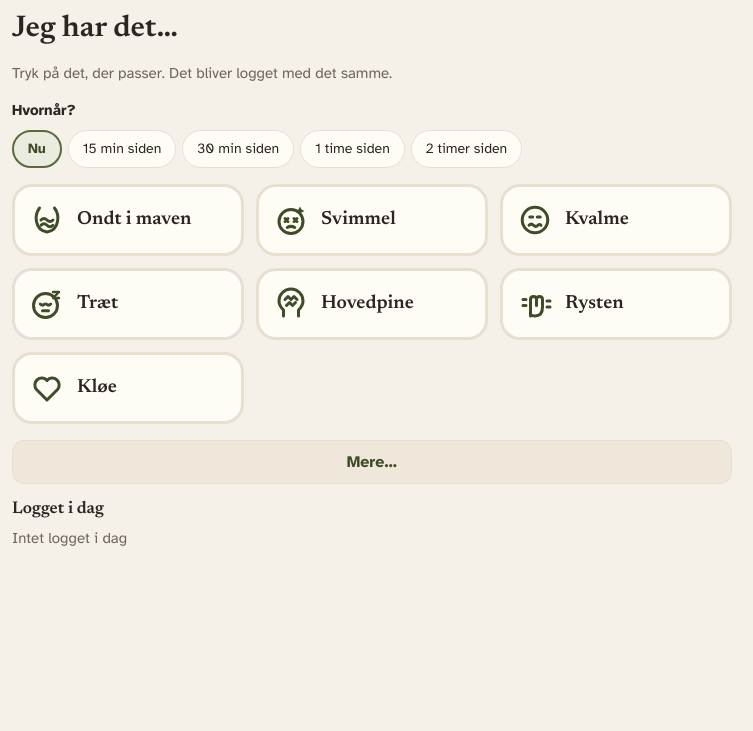
Test: Jeg har det… (the picker, plan §5) › Mere… opens the sheet with severity chips, a note and a time, and saves them with the kind
Click the button "Mere…".
click(372, 462)  # box [12,440,732,484]
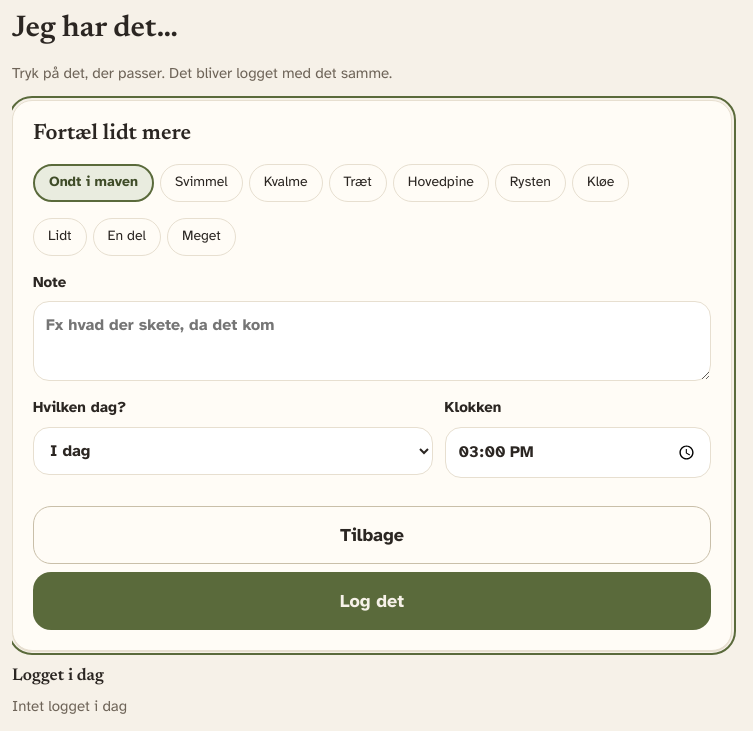
Expected: the element with test id "feel-grid" is gone
Click the radio button labelled "Kvalme".
click(286, 183)  # box [249,164,322,202]
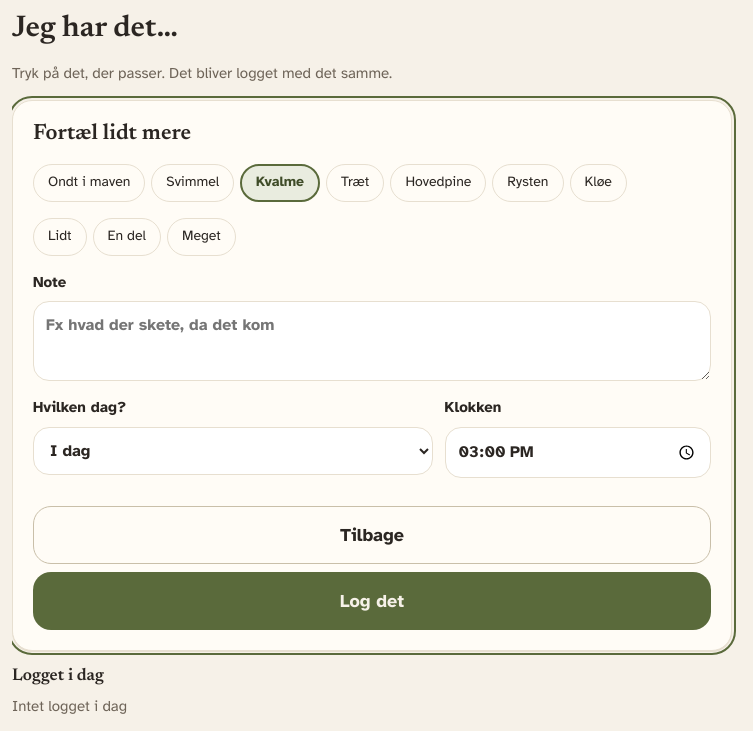
Click the radio button labelled "En del".
click(127, 237)  # box [93,218,161,256]
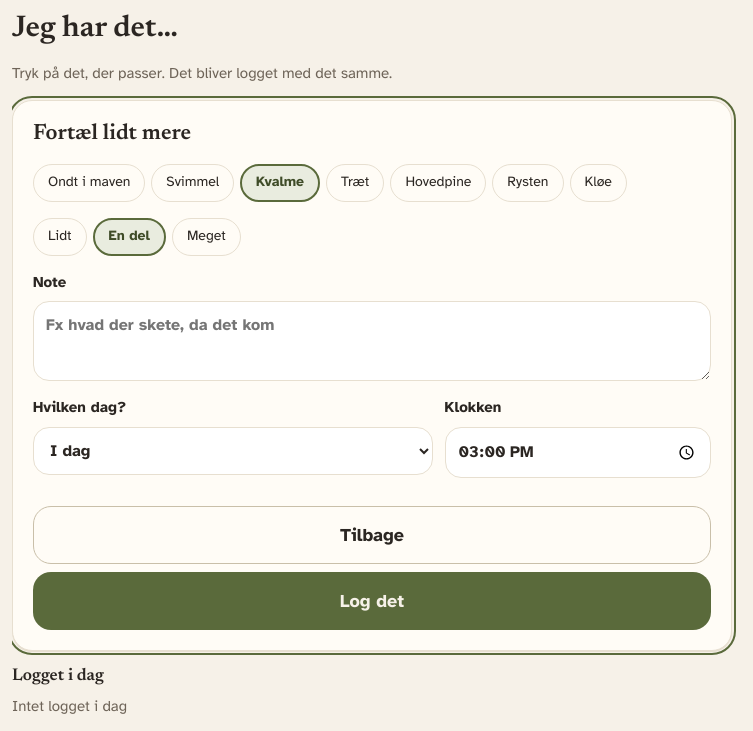
Type "Efter frokost" into the text box labelled "Note".
click(372, 341); type("Efter frokost")  # box [33,301,711,381]
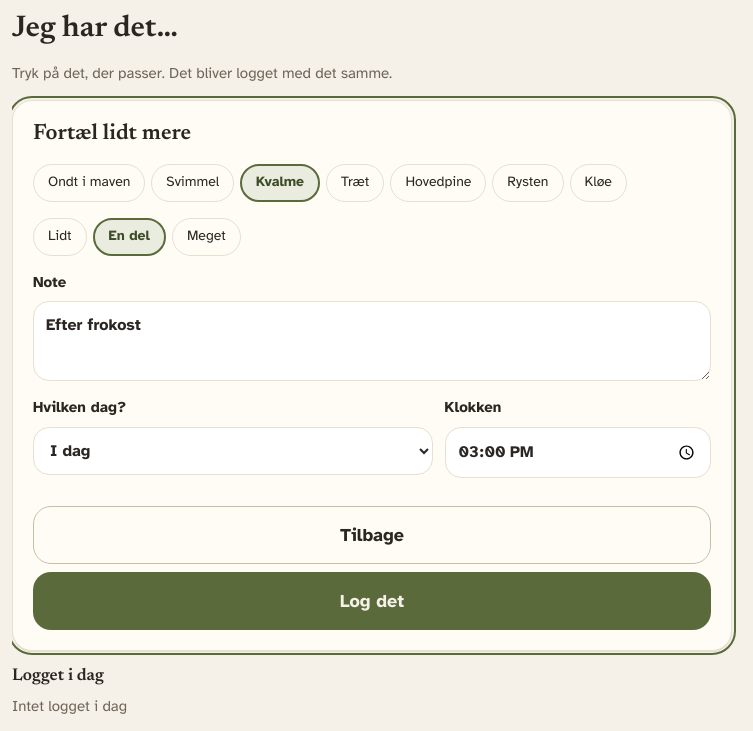
Expected: the dropdown labelled "Hvilken dag?" shows "I dag", [33,427,433,475]
Expected: the time field labelled "Klokken" holds "15:00"
Replace the text in the time field labelled "Klokken" with "14:20" at (578,453), box [445,427,711,478]
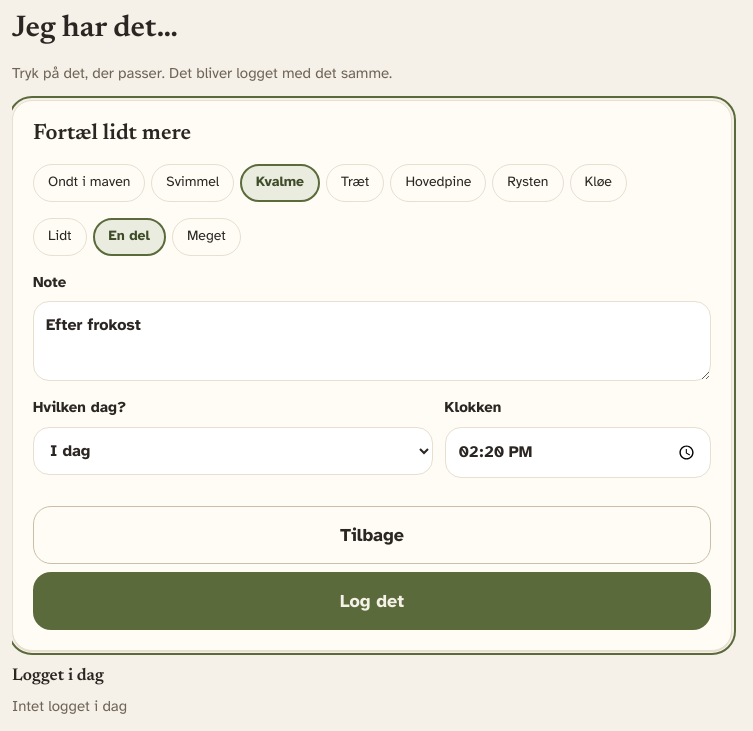
Click the button "Log det".
click(372, 601)  # box [33,572,711,630]
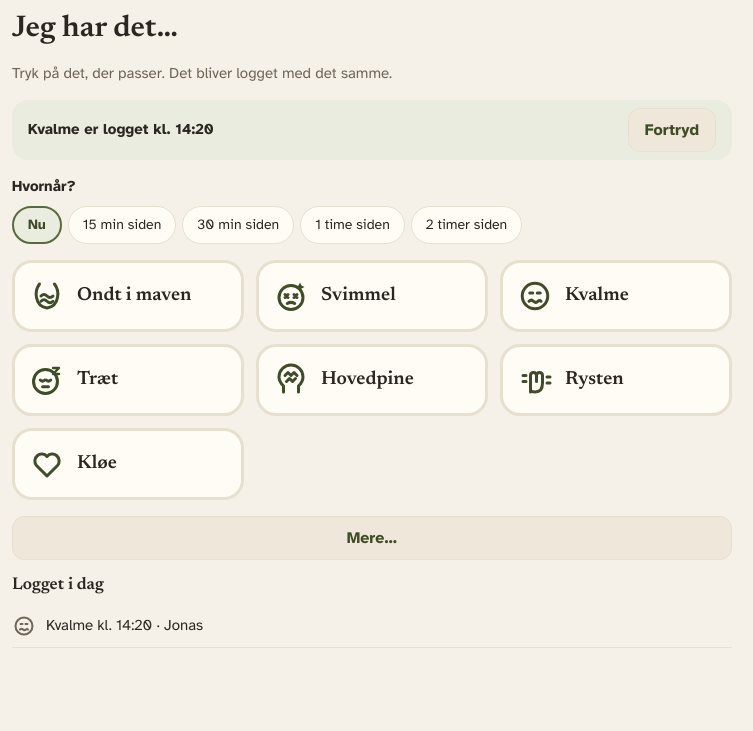
Expected: the message "Kvalme er logget kl. 14:20 Fortryd" is shown, [12,100,732,160]
Expected: the element with test id "symptom-sheet" is gone
Expected: the message with test id "feel-status" shows "Kvalme er logget kl. 14:20", [28,120,214,138]
